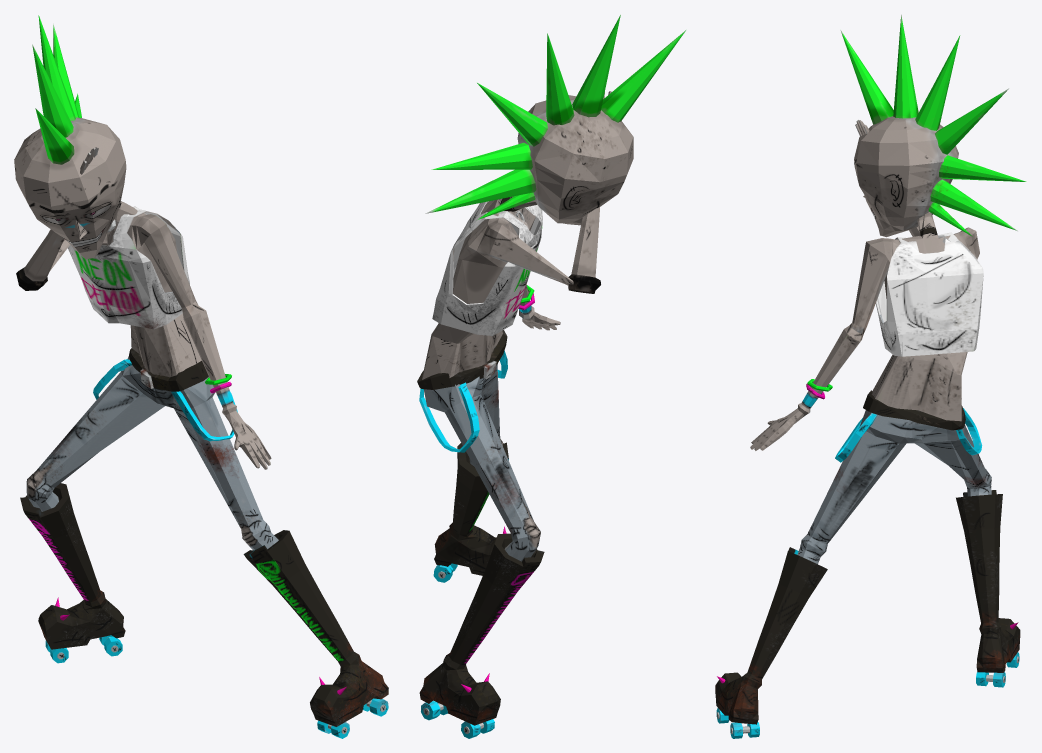
The model's file is punkAnimation_000077.obj.
3 renders of one model, left to right at view 1: azimuth 30°, elevation 25°; view 2: azimuth 150°, elevation 25°; view 3: azimuth 270°, elevation 25°, orthographic. The views are drawn at different scales.
Parts seen in each view (by area): view 1: Cube.004_Cube.003; view 2: Cube.004_Cube.003; view 3: Cube.004_Cube.003.
Boxes of the visible parts, x1,y1,x2,y2 form: Cube.004_Cube.003: (14,15,388,738); Cube.004_Cube.003: (417,15,685,738); Cube.004_Cube.003: (715,15,1026,738).
Bounding box in the file's own units: 3.08 × 6.72 × 3.09.
